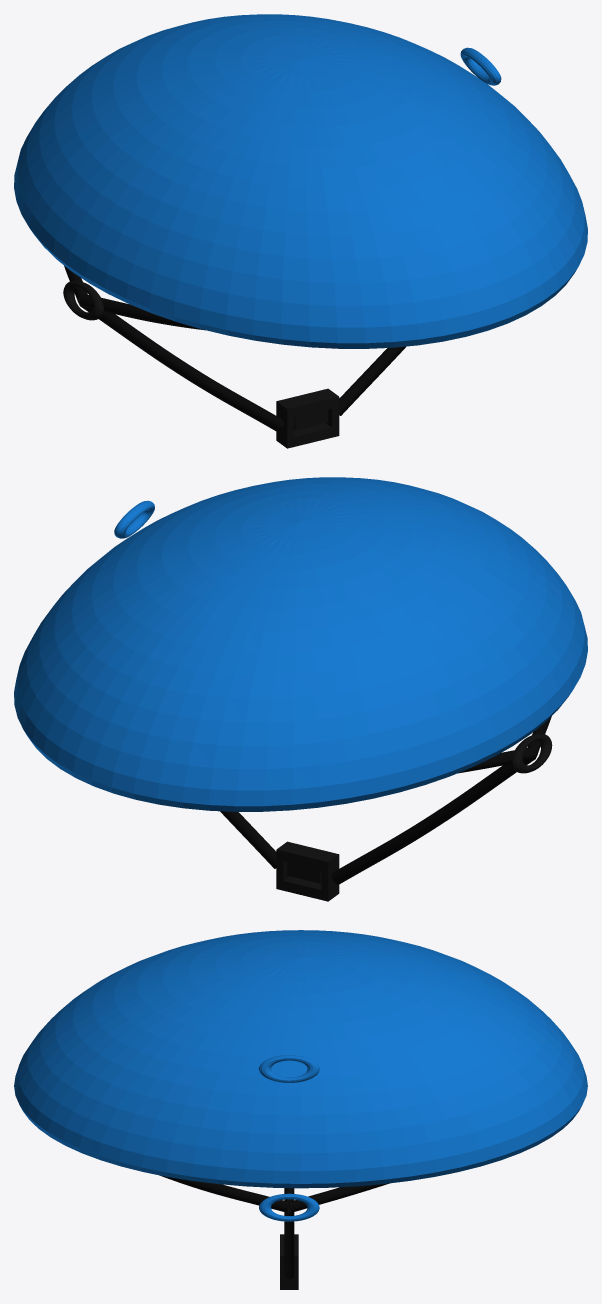
The model's file is casco-ciclista.obj.
3 views of the same model, one above another, from view 1: azimuth 30°, elevation 25°; view 2: azimuth 150°, elevation 25°; view 3: azimuth 270°, elevation 25° (orthographic). The views are drawn at different scales.
Parts seen in each view (by area): view 1: Casco_Ciclista, Correa_Barbilla_Izq, Broche_Hebilla_Hembra, Casco_Ciclista.001, Correa_Trasera_Izq, Broche_Ancla_Lateral.002, Broche_Ancla_Lateral; view 2: Casco_Ciclista, Correa_Barbilla_Izq, Broche_Hebilla_Hembra, Broche_Ancla_Lateral.002, Broche_Ancla_Lateral, Correa_Delantera_Izq, Casco_Ciclista.001; view 3: Casco_Ciclista, Broche_Ancla_Lateral, Correa_Trasera_Izq, Casco_Ciclista.001, Correa_Delantera_Izq, Correa_Barbilla_Izq, Broche_Hebilla_Hembra.
Part boxes in pixels (x1,y1,x2,y2): Casco_Ciclista: [14, 14, 587, 348]; Correa_Barbilla_Izq: [79, 299, 405, 431]; Broche_Hebilla_Hembra: [276, 388, 339, 448]; Casco_Ciclista.001: [304, 70, 438, 146]; Correa_Trasera_Izq: [80, 294, 204, 330]; Broche_Ancla_Lateral.002: [63, 280, 103, 320]; Broche_Ancla_Lateral: [460, 47, 501, 85]; Casco_Ciclista: [14, 477, 587, 811]; Correa_Barbilla_Izq: [220, 753, 536, 884]; Broche_Hebilla_Hembra: [276, 841, 339, 901]; Broche_Ancla_Lateral.002: [511, 733, 552, 773]; Broche_Ancla_Lateral: [114, 500, 154, 538]; Correa_Delantera_Izq: [458, 747, 535, 773]; Casco_Ciclista.001: [228, 481, 328, 504]; Casco_Ciclista: [14, 930, 587, 1188]; Broche_Ancla_Lateral: [259, 1055, 319, 1221]; Correa_Trasera_Izq: [159, 1175, 290, 1212]; Casco_Ciclista.001: [194, 964, 260, 1020]; Correa_Delantera_Izq: [288, 1183, 389, 1212]; Correa_Barbilla_Izq: [284, 1188, 294, 1279]; Broche_Hebilla_Hembra: [280, 1234, 298, 1289].
Size of the model in its own units: 1.98 by 1.52 by 2.46.
